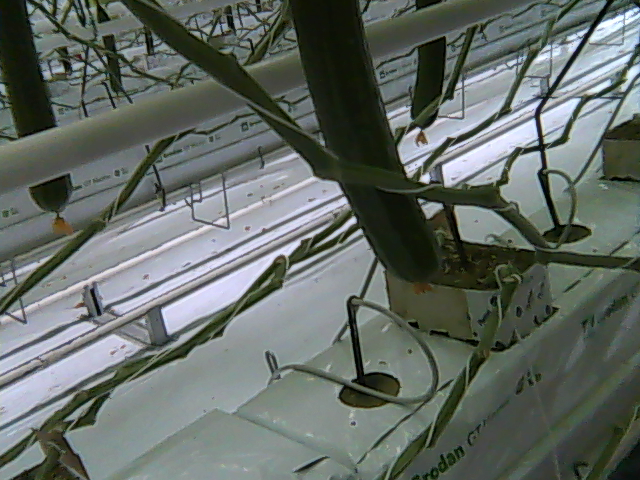concombre: (285, 1, 446, 298)
